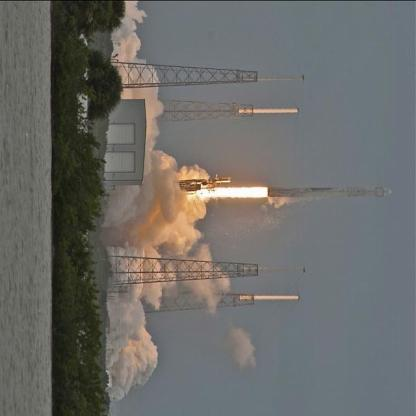MIL_TBM: (260, 184, 393, 198), (237, 292, 304, 302), (236, 106, 304, 115)
